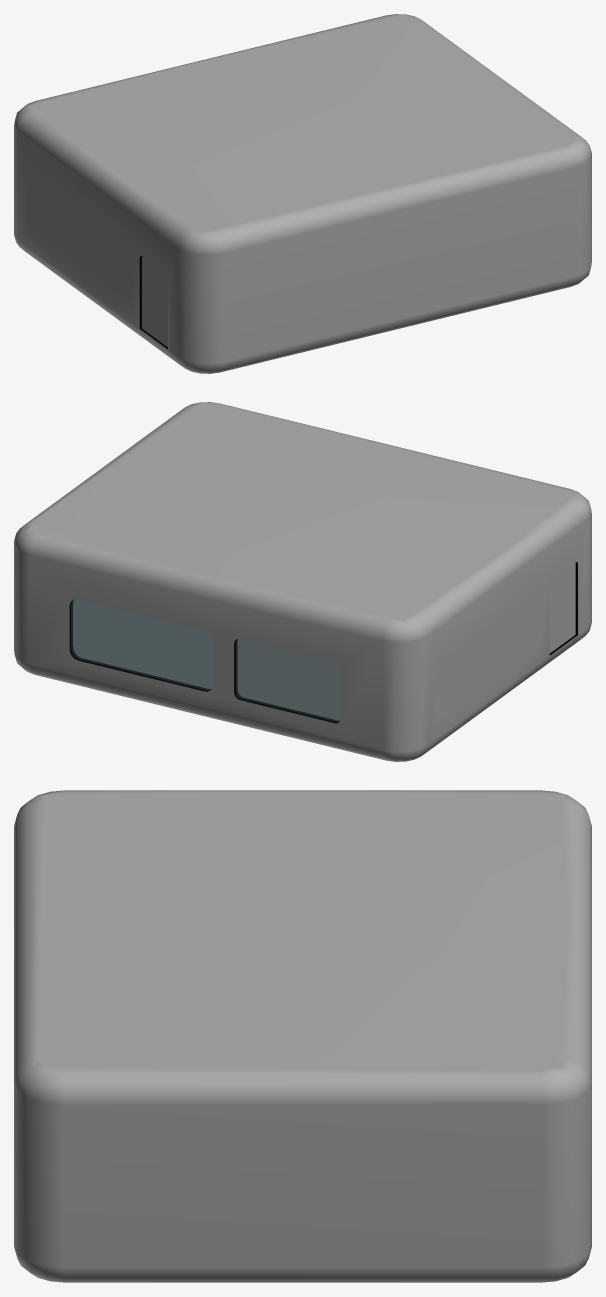
The model's file is F_swsys_finish_3.fbx.
3 renders of one model, top to bottom at view 1: azimuth 30°, elevation 25°; view 2: azimuth 150°, elevation 25°; view 3: azimuth 270°, elevation 25°, orthographic. The views are drawn at different scales.
Parts seen in each view (by area): view 1: polySurface162, polySurface158, polySurface159, polySurface153, polySurface152; view 2: polySurface162, polySurface152, polySurface159, polySurface153, polySurface158; view 3: polySurface162, polySurface153, polySurface152, polySurface158, polySurface159.
Boxes of the visible parts, <box> form: polySurface162: <box>30,15,575,232</box>; polySurface158: <box>198,141,590,373</box>; polySurface159: <box>14,106,202,373</box>; polySurface153: <box>404,14,591,266</box>; polySurface152: <box>20,14,404,109</box>; polySurface162: <box>30,403,575,620</box>; polySurface152: <box>15,529,407,761</box>; polySurface159: <box>403,494,591,761</box>; polySurface153: <box>14,402,201,654</box>; polySurface158: <box>201,402,585,497</box>; polySurface162: <box>37,792,568,1070</box>; polySurface153: <box>28,1068,577,1282</box>; polySurface152: <box>560,795,591,1276</box>; polySurface158: <box>14,795,45,1276</box>; polySurface159: <box>38,790,567,795</box>.
Bounding box in the file's own units: 135 × 44.13 × 110.
